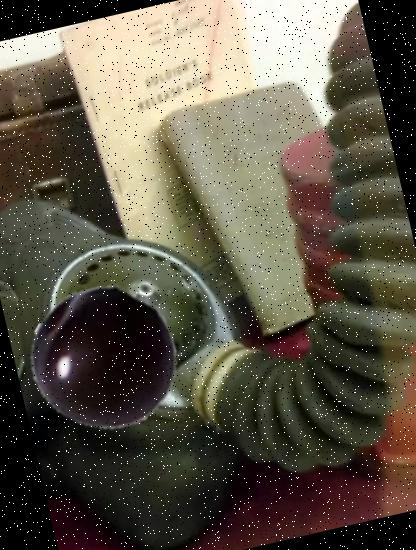Cherry: (15, 268, 194, 448)
